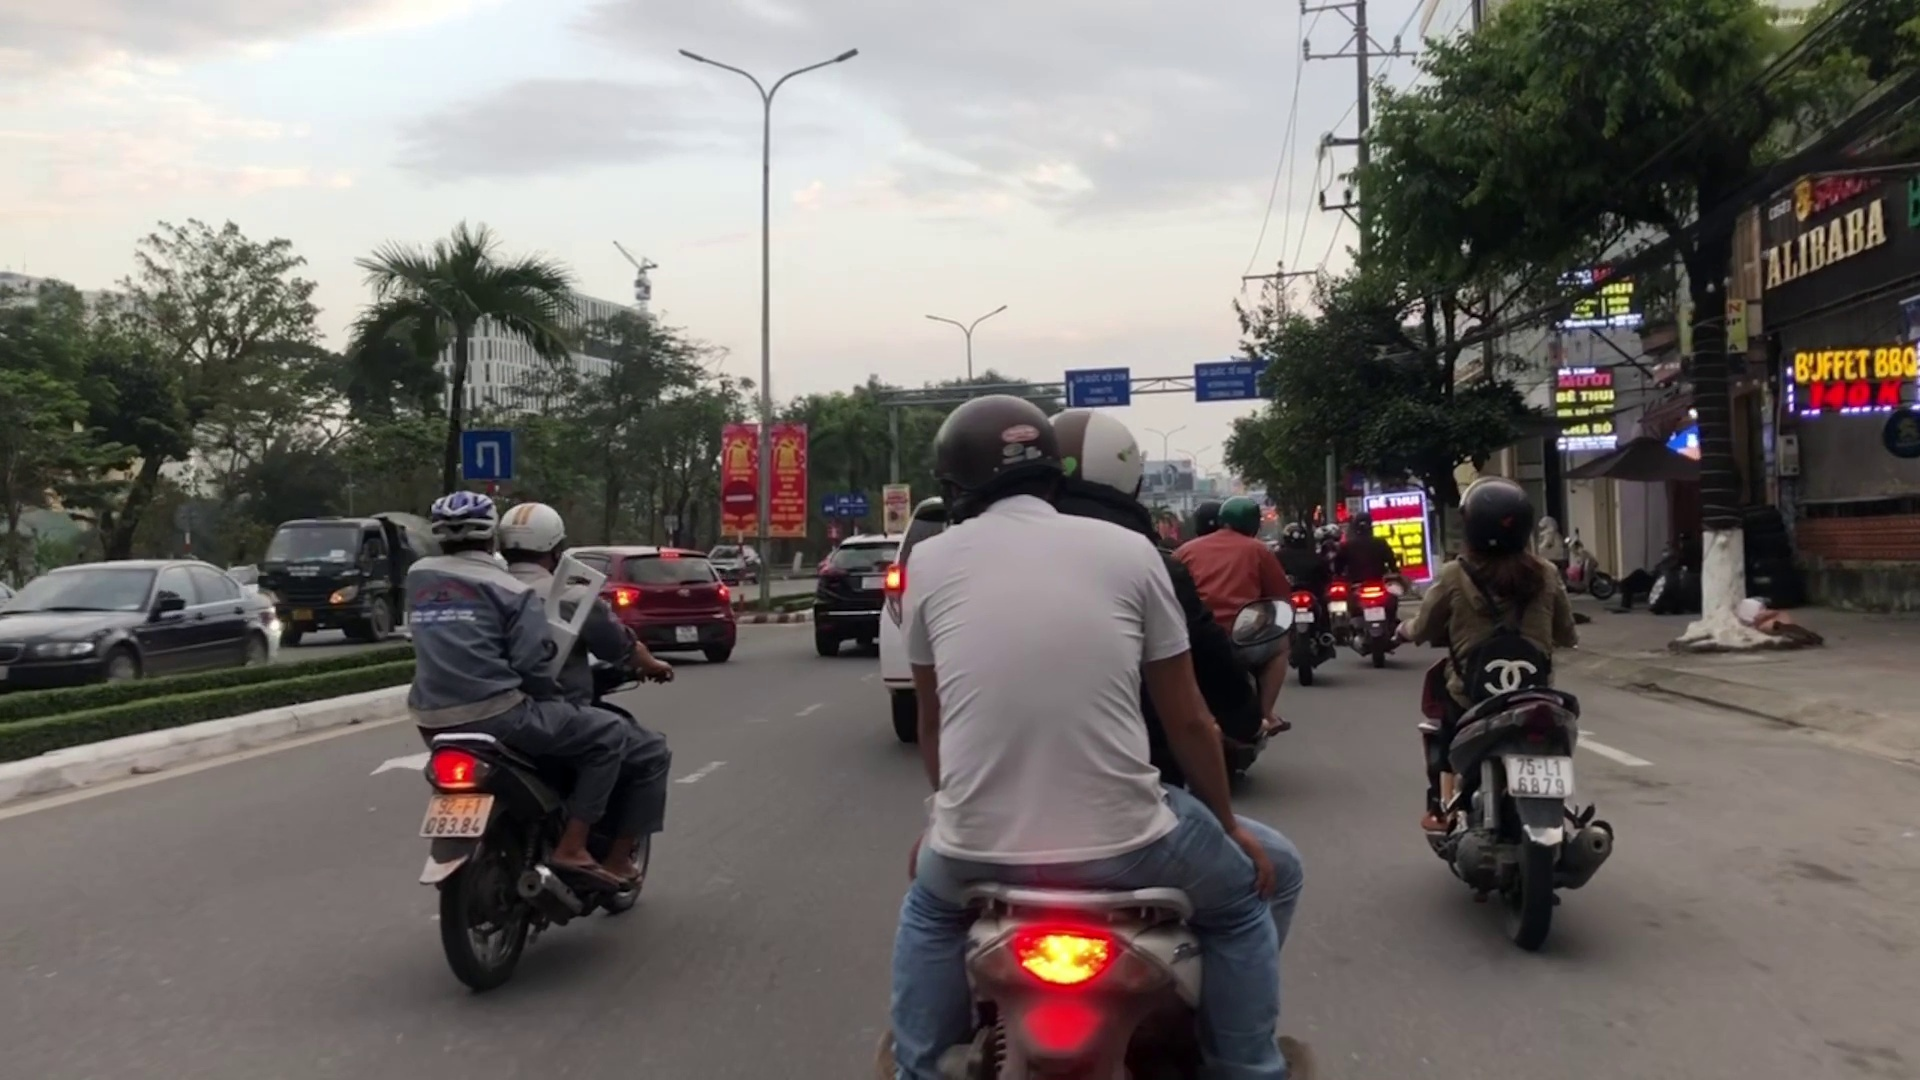Bien khac: (458, 426, 514, 483)
